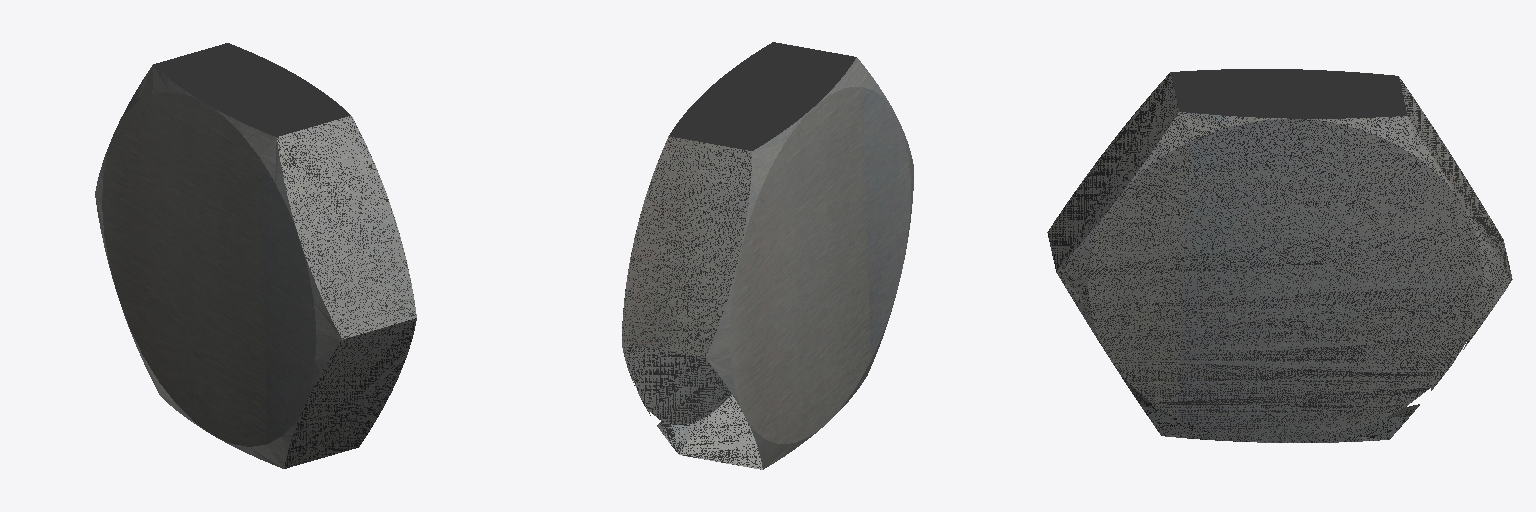
3 views of the same model, side by side, from view 1: azimuth 30°, elevation 25°; view 2: azimuth 150°, elevation 25°; view 3: azimuth 270°, elevation 25° (orthographic).
Parts seen in each view (by area): view 1: Group1/mesh1/mesh1-geometry#mesh1-geometry; view 2: Group1/mesh1/mesh1-geometry#mesh1-geometry; view 3: Group1/mesh1/mesh1-geometry#mesh1-geometry.
Part boxes in pixels (bbox=[...]): Group1/mesh1/mesh1-geometry#mesh1-geometry: bbox=[95, 43, 416, 468]; Group1/mesh1/mesh1-geometry#mesh1-geometry: bbox=[622, 42, 913, 469]; Group1/mesh1/mesh1-geometry#mesh1-geometry: bbox=[1047, 69, 1512, 442].
Bounding box in the file's own units: 0.0151 × 0.0418 × 0.0527.
2 materials, 1 textured.